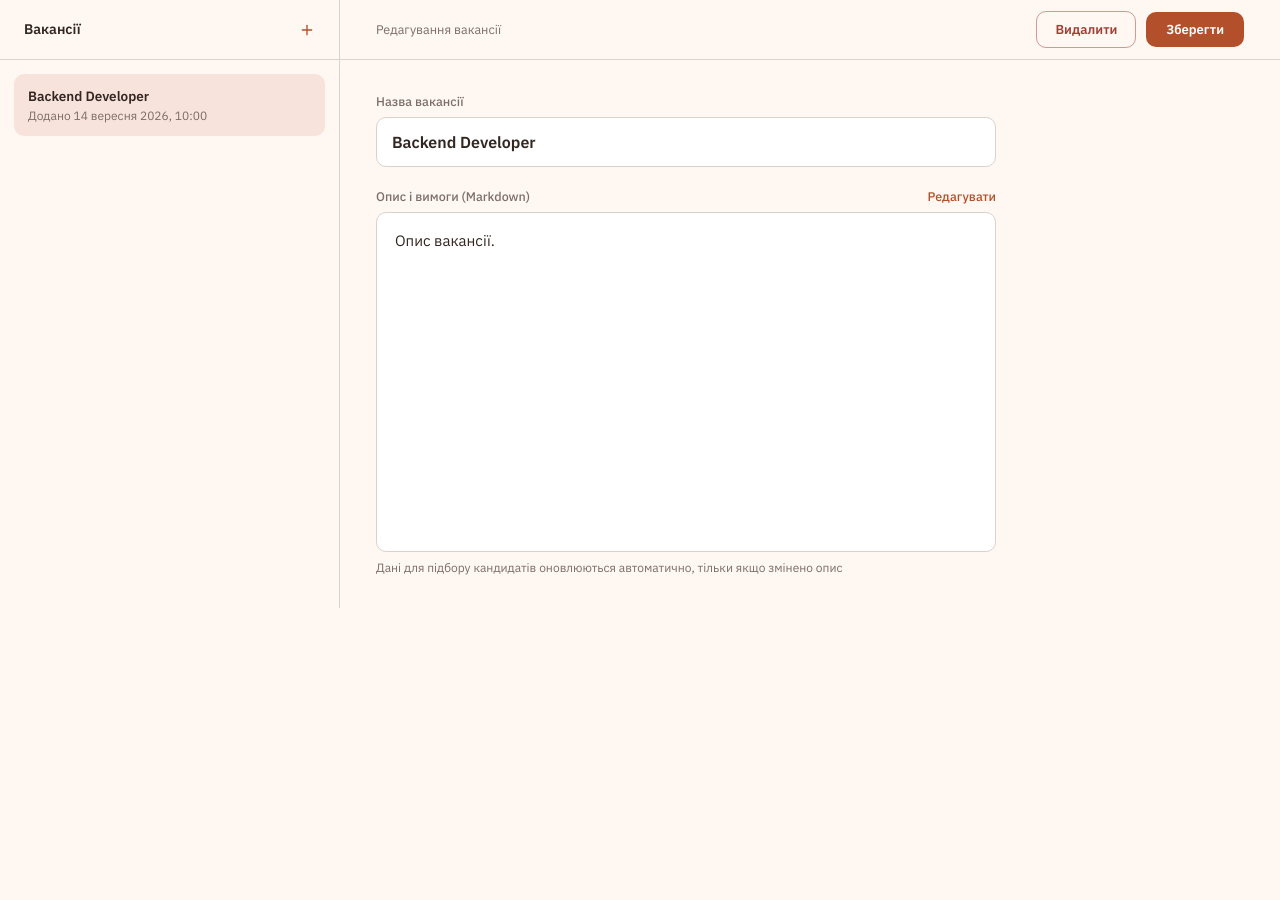
JobRequirementsPage › deletes a job requirement after confirming
Expected: the field showing "Backend Developer" is shown, [376,117,996,167]
Click the button with aria-label "Видалити вакансію". click: (1086, 30)
box: [1036,11,1136,48]
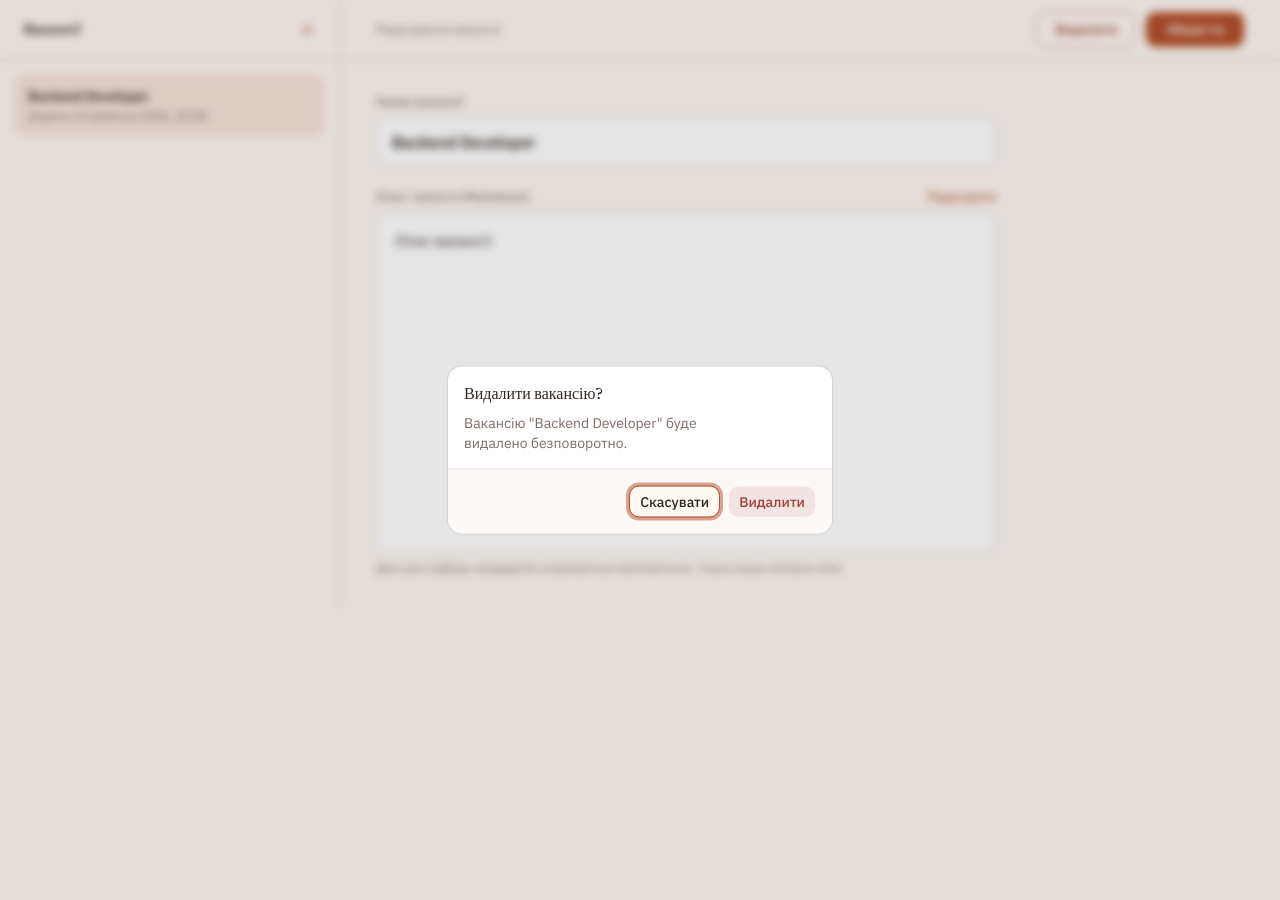
Now the heading "Видалити вакансію?" is shown, box [464,382,603,406]
Click the button "Видалити". click: (772, 502)
box: [728,486,816,518]
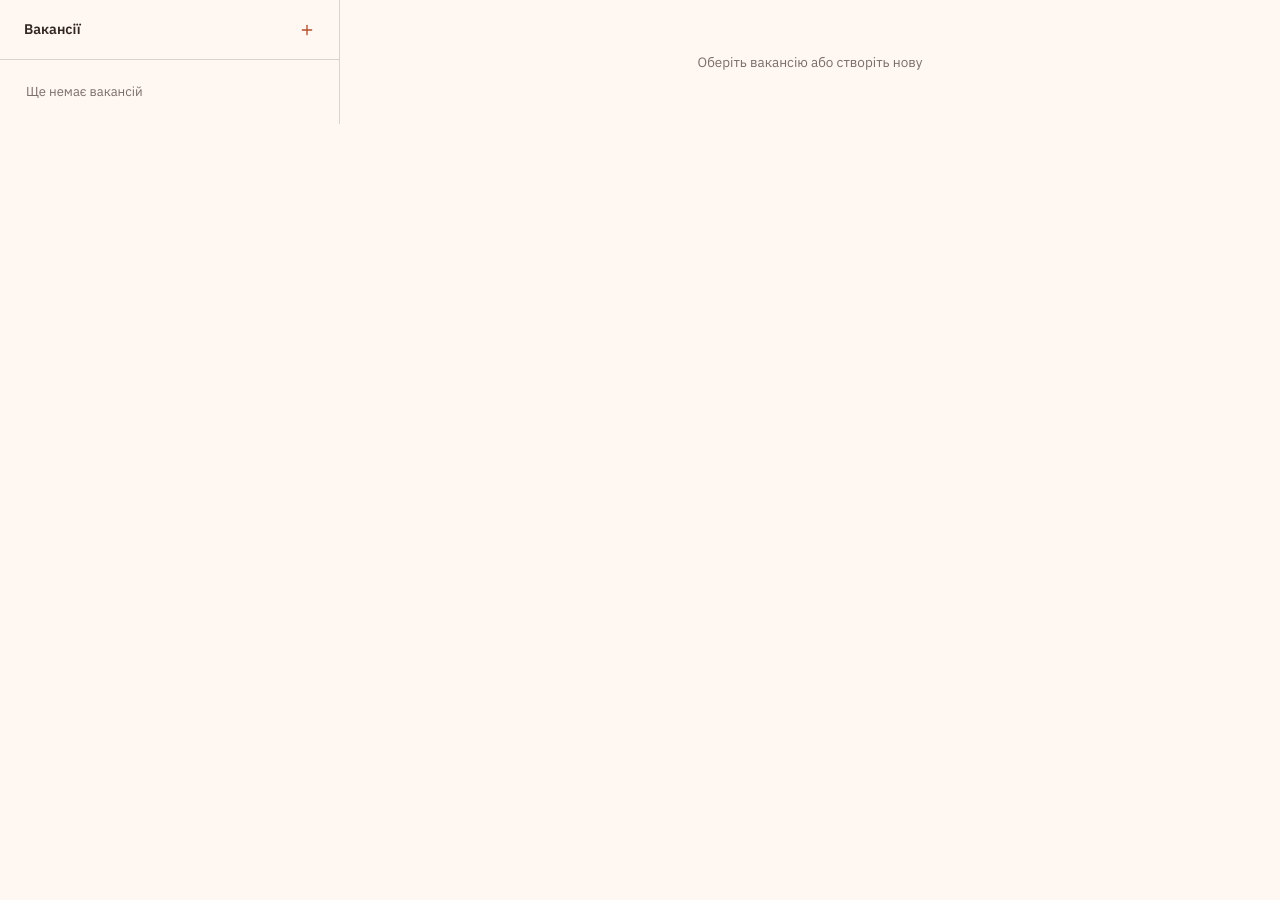
Now the text "Оберіть вакансію або створіть нову" is shown, box [698,53,922,71]
